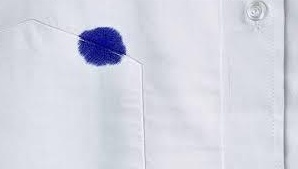ink: (77, 27, 125, 65)
